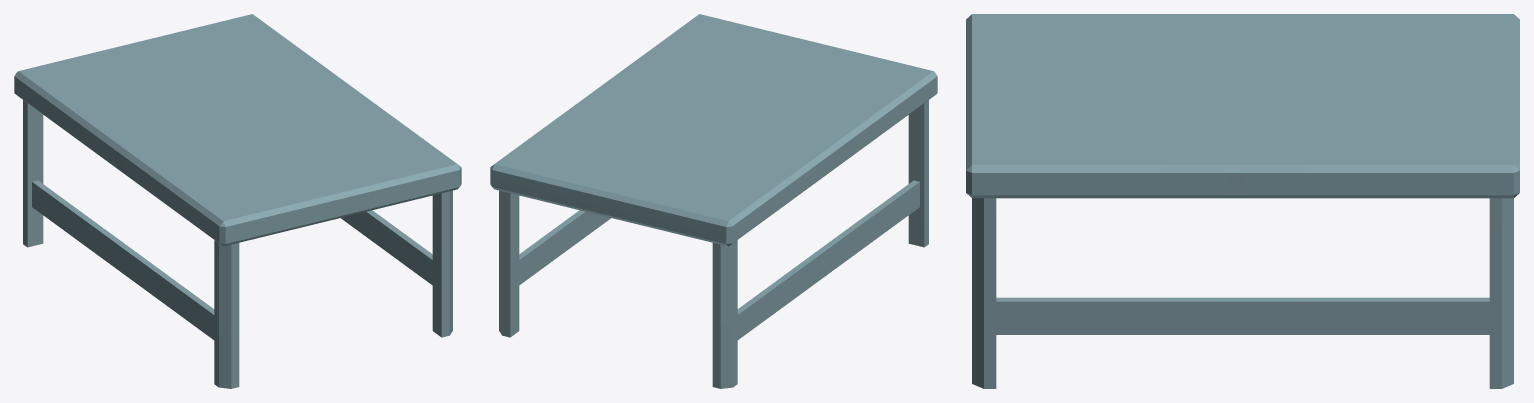
Rendered from KitchenTable.glb.
The picture shows the model from 3 angles, left to right: view 1: azimuth 30°, elevation 25°; view 2: azimuth 150°, elevation 25°; view 3: azimuth 270°, elevation 25°; orthographic projection. The views are drawn at different scales.
Parts seen in each view (by area): view 1: KitchenTable.003; view 2: KitchenTable.003; view 3: KitchenTable.003.
Boxes of the visible parts, left/top/right/bottom form: KitchenTable.003: left=14, top=14, right=461, bottom=388; KitchenTable.003: left=490, top=14, right=937, bottom=388; KitchenTable.003: left=966, top=14, right=1519, bottom=388.
Bounding box in the file's own units: 1 × 0.6696 × 1.5.
1 material, 1 textured.
